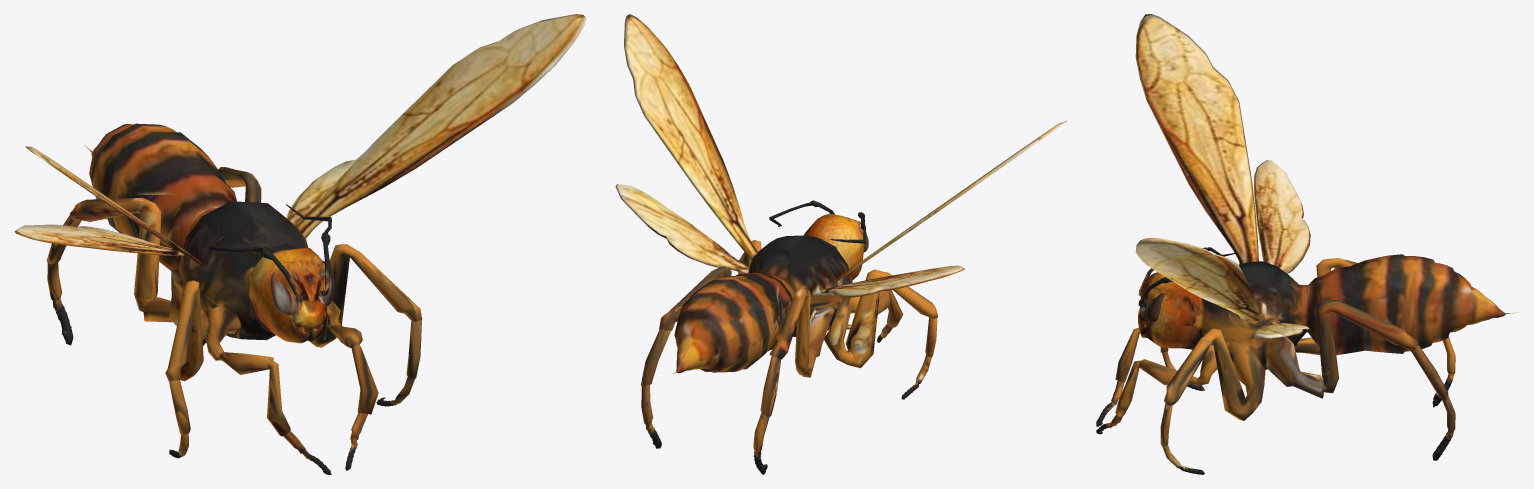
The model's file is murderhornet.glb.
3 renders of one model, left to right at view 1: azimuth 30°, elevation 25°; view 2: azimuth 150°, elevation 25°; view 3: azimuth 270°, elevation 25°, orthographic. The views are drawn at different scales.
Parts seen in each view (by area): view 1: Body; view 2: Body; view 3: Body.
Boxes of the visible parts, left/top/right/bottom form: Body: left=14, top=14, right=586, bottom=474; Body: left=615, top=14, right=1066, bottom=474; Body: left=1096, top=14, right=1518, bottom=474.
Bounding box in the file's own units: 2.18 × 1.4 × 1.74.
1 material, 1 textured.
